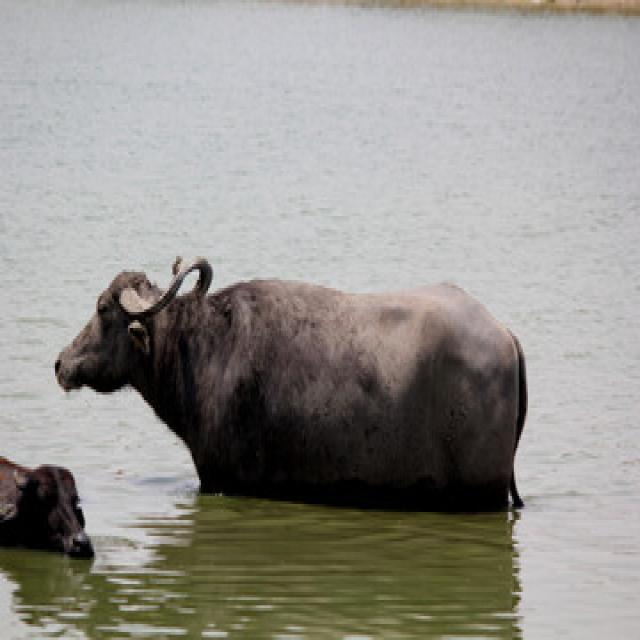Buffalo: (57, 256, 530, 512)
